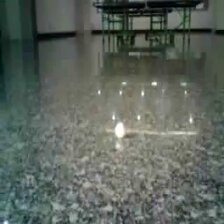w: (114, 120, 126, 139)
